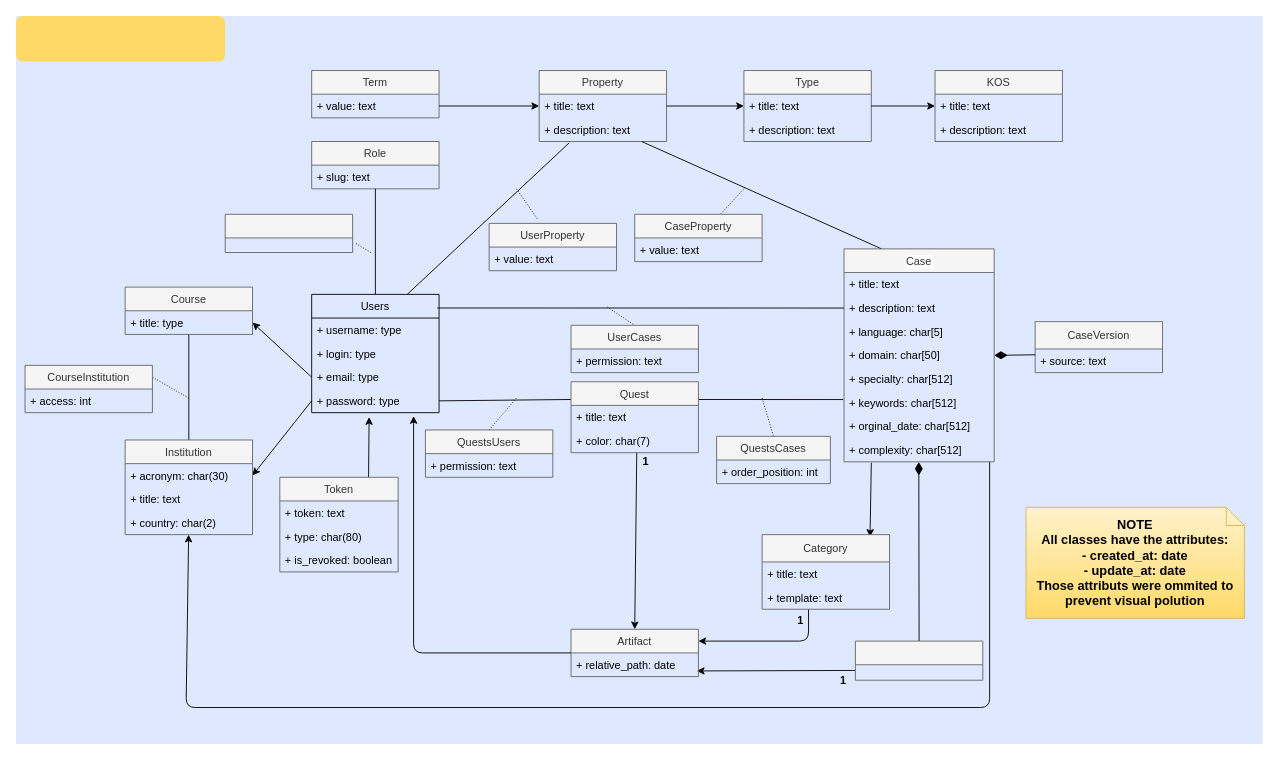
Image size: 1278x759. Some labels were removed from this diagram. Each missing label, with the centre of its shape:
"CaseArtifacts" goes at pixel 918 660.
"Class Diagram - Release: v1_1_0 Author: Fagner Leal" goes at pixel 120 38.
"RolesUsers" goes at pixel 288 233.
